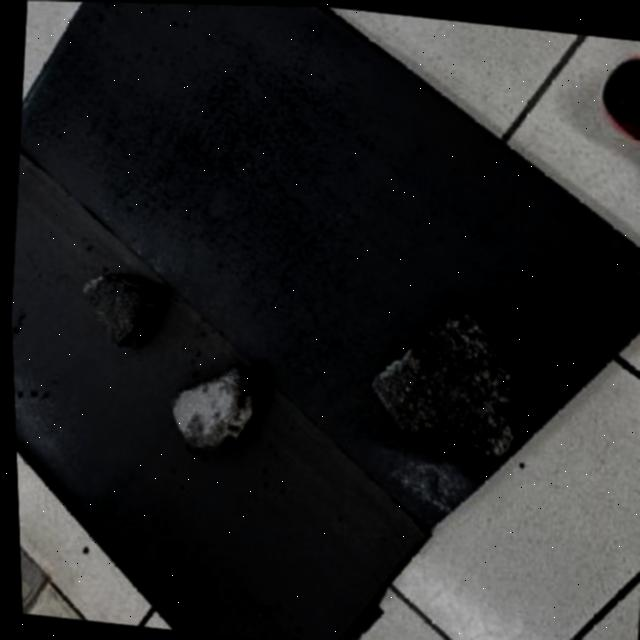Road Debris: (405, 305, 531, 453), (78, 264, 154, 353), (164, 402, 248, 454)
